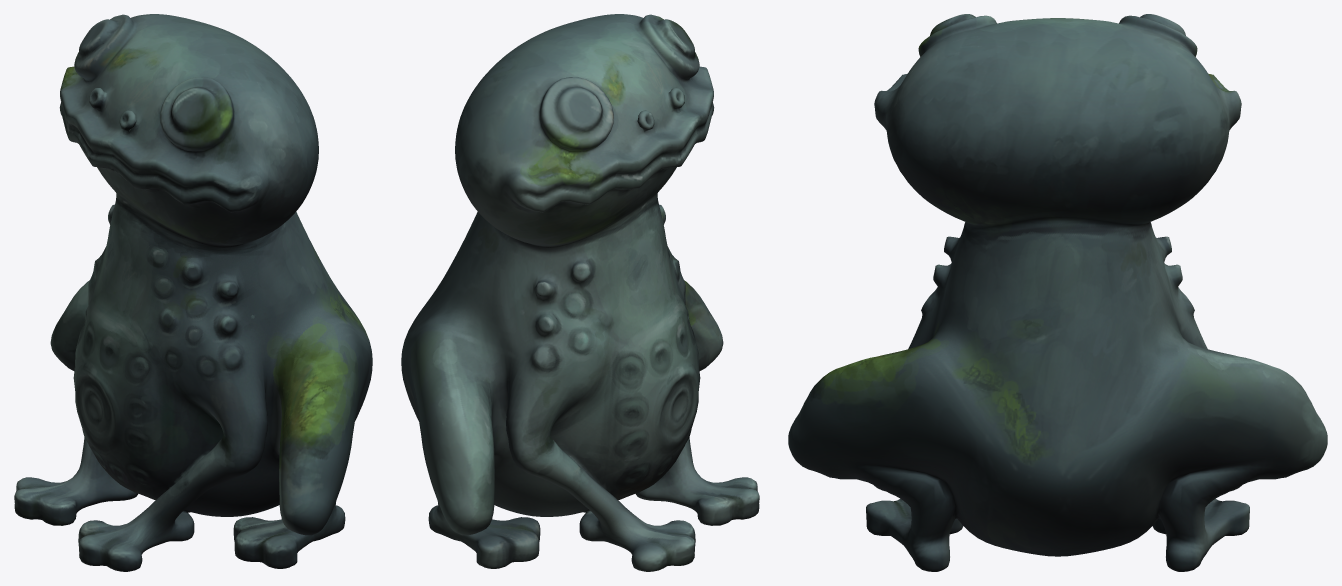
Rendered from froggo_export.obj.
The picture shows the model from 3 angles, left to right: view 1: azimuth 30°, elevation 25°; view 2: azimuth 150°, elevation 25°; view 3: azimuth 270°, elevation 25°; orthographic projection. The views are drawn at different scales.
Parts seen in each view (by area): view 1: zaba_remesh; view 2: zaba_remesh; view 3: zaba_remesh.
Boxes of the visible parts, x1,y1,x2,y2 form: zaba_remesh: (14,14,372,571); zaba_remesh: (401,14,759,571); zaba_remesh: (788,14,1327,571).
Size of the model in its own units: 64.66 by 91.86 by 90.15.
